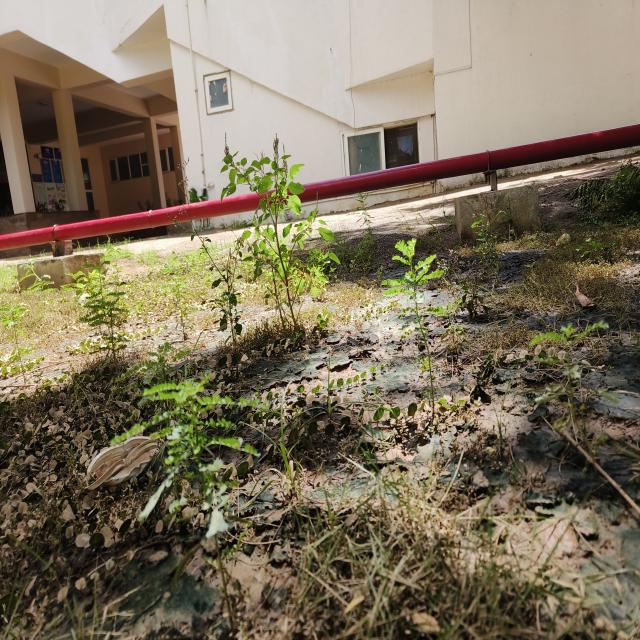weed: (223, 147, 345, 343), (111, 374, 267, 500), (387, 221, 441, 380)
